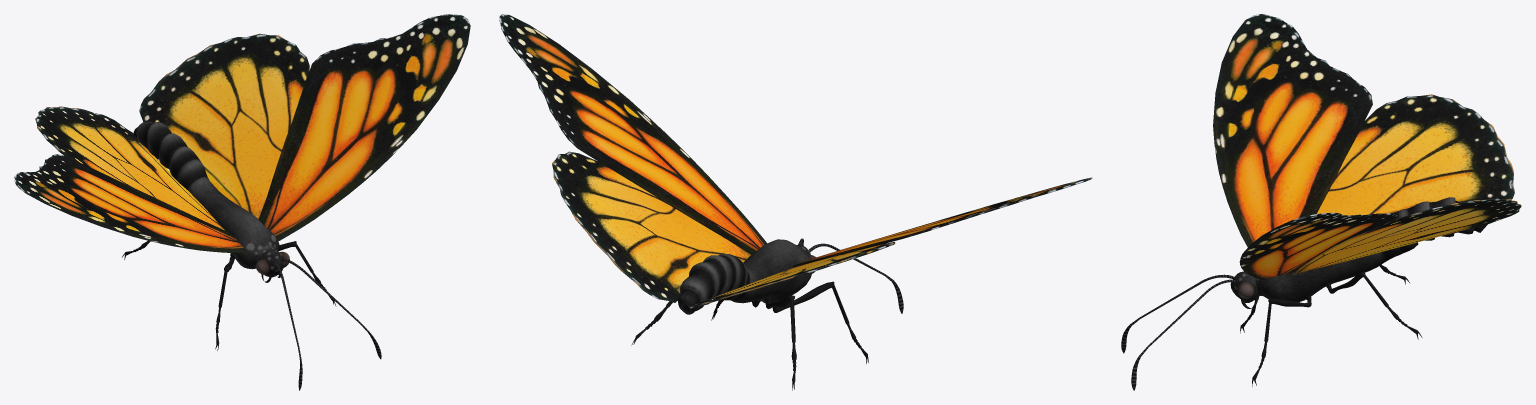
The model's file is butterfly.glb.
3 views of the same model, side by side, from view 1: azimuth 30°, elevation 25°; view 2: azimuth 150°, elevation 25°; view 3: azimuth 270°, elevation 25° (orthographic). The views are drawn at different scales.
Visible parts, largest first — view 1: node_id30_1; view 2: node_id30_1; view 3: node_id30_1.
Boxes of the visible parts, x1=… form: node_id30_1: x1=14, y1=14, x2=470, y2=390; node_id30_1: x1=499, y1=14, x2=1092, y2=390; node_id30_1: x1=1121, y1=14, x2=1521, y2=390.
Size of the model in its own units: 0.8756 by 0.4471 by 0.6075.
Materials: 1 (1 with a texture image).
